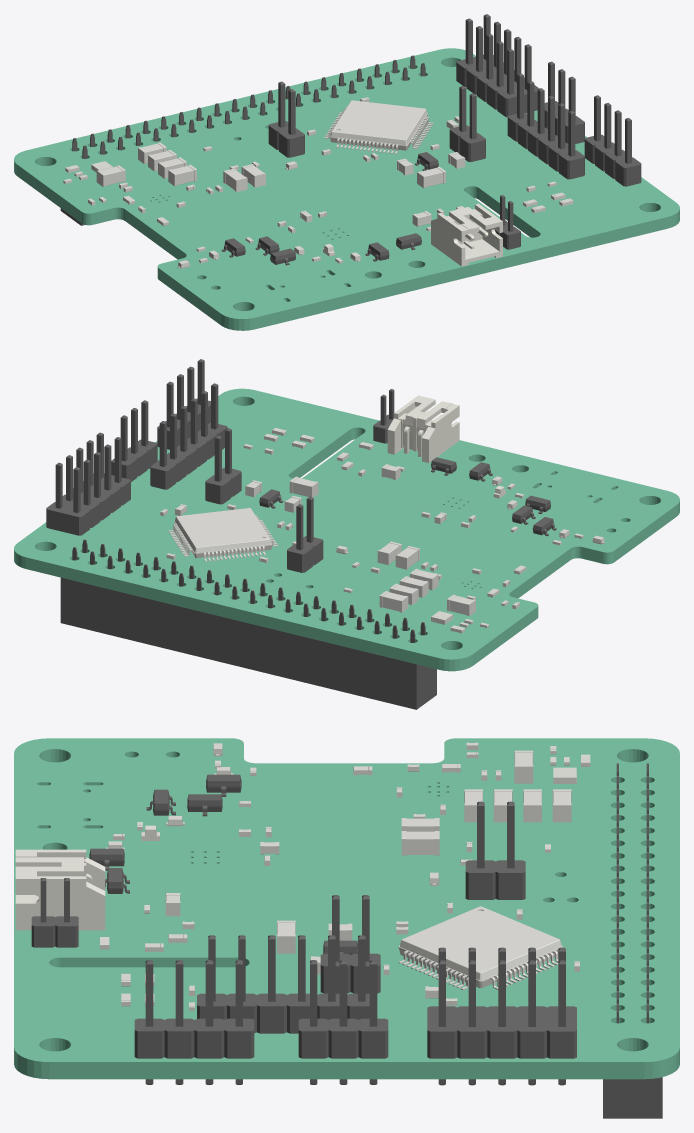
The model's file is raspi.glb.
3 renders of one model, top to bottom at view 1: azimuth 30°, elevation 25°; view 2: azimuth 150°, elevation 25°; view 3: azimuth 270°, elevation 25°, orthographic. The views are drawn at different scales.
Parts seen in each view (by area): view 1: node1.003, node53, node15, node62, node8, node61, node82, node63, node56, node69, node70, node72 (+2 smaller); view 2: node1.003, node82, node53, node62, node15, node8, node69, node61, node63, node56, node70; view 3: node1.003, node53, node62, node61, node15, node8, node69, node82, node63, node56, node70, node81 (+7 smaller).
Part boxes in pixels (x1,y1,x2,y2): node1.003: (14, 48, 679, 330); node53: (456, 14, 538, 117); node15: (507, 73, 584, 179); node62: (324, 100, 433, 154); node8: (431, 203, 502, 266); node61: (584, 95, 641, 186); node82: (60, 55, 425, 225); node63: (268, 81, 304, 157); node56: (449, 86, 485, 161); node69: (544, 61, 584, 143); node70: (495, 195, 520, 249); node72: (96, 165, 125, 186); node1.003: (14, 388, 679, 671); node82: (60, 539, 436, 709); node53: (46, 432, 130, 535); node62: (168, 508, 278, 561); node15: (150, 383, 227, 489); node8: (387, 395, 459, 462); node69: (111, 400, 157, 481); node61: (157, 359, 210, 449); node63: (287, 496, 323, 572); node56: (205, 428, 241, 504); node70: (373, 389, 394, 443); node1.003: (14, 738, 679, 1079); node53: (427, 947, 576, 1085); node62: (398, 906, 562, 989); node61: (134, 960, 254, 1084); node15: (197, 935, 369, 1033); node8: (15, 849, 105, 930); node69: (298, 960, 388, 1084); node82: (603, 763, 662, 1118); node63: (465, 801, 525, 899); node56: (320, 895, 380, 993); node70: (31, 878, 78, 947); node81: (401, 831, 439, 855).
Bounding box in the file's own units: 0.065 × 0.0171 × 0.0565.
